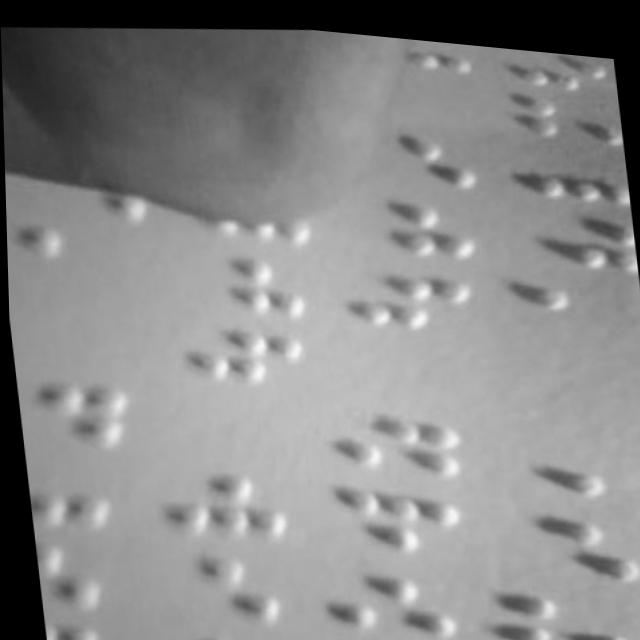braiile: (489, 486, 640, 582), (144, 448, 293, 544), (325, 461, 473, 557), (489, 403, 640, 497), (330, 173, 483, 265), (315, 388, 473, 477), (331, 100, 484, 191), (169, 233, 321, 321), (137, 533, 288, 620), (334, 246, 481, 330), (318, 556, 461, 639), (492, 559, 634, 640), (11, 358, 132, 450), (169, 309, 309, 388), (517, 185, 637, 268), (511, 126, 629, 200), (510, 67, 623, 141), (20, 438, 116, 525), (30, 530, 114, 609), (128, 611, 286, 640), (517, 39, 616, 80), (38, 607, 106, 640), (479, 631, 607, 640), (330, 632, 449, 640)
